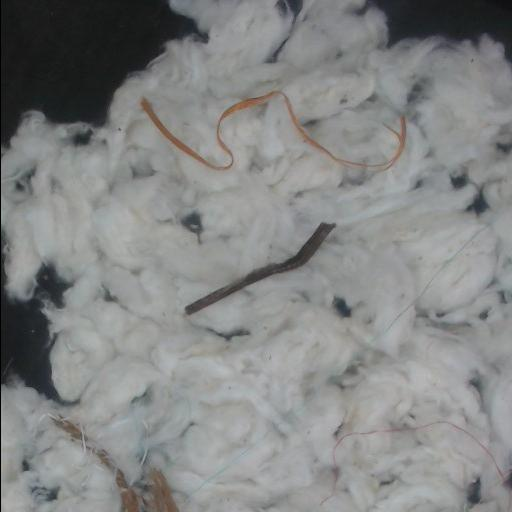conveyor belt: (1, 0, 195, 143), (373, 0, 512, 59), (1, 292, 57, 398)
cotton: (1, 0, 512, 511)
jute: (52, 417, 179, 511)
thread: (141, 90, 404, 170), (185, 223, 336, 313), (416, 419, 507, 481)
